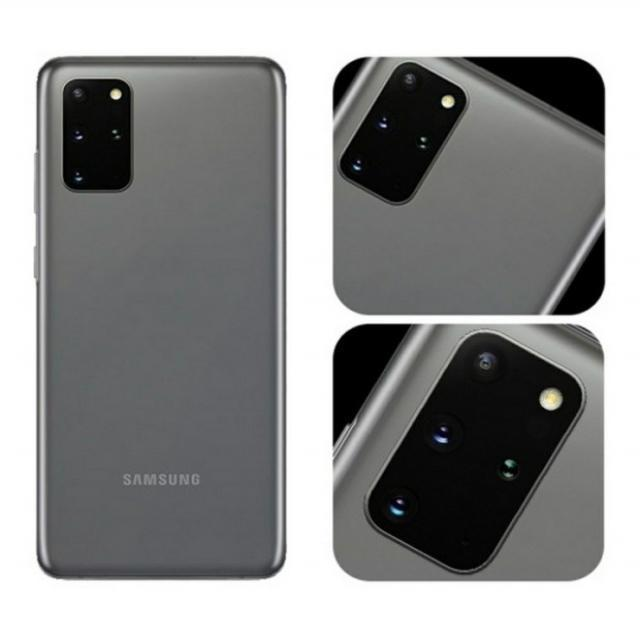phone: (36, 56, 286, 578)
